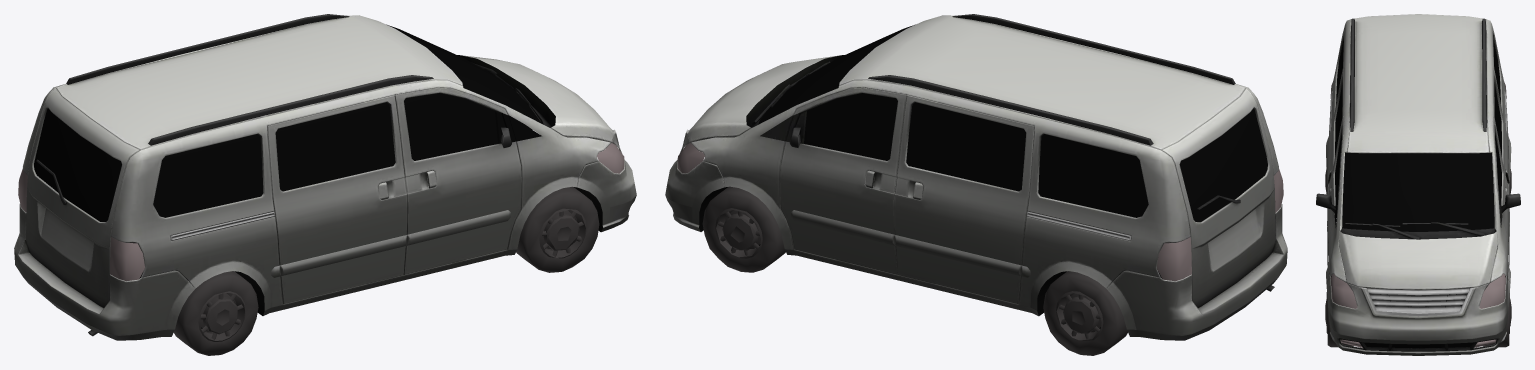
The model's file is pc-minivan-white.lod0.glb.
3 views of the same model, side by side, from view 1: azimuth 30°, elevation 25°; view 2: azimuth 150°, elevation 25°; view 3: azimuth 270°, elevation 25° (orthographic). The views are drawn at different scales.
Visible parts, largest first — view 1: minivan body_Body_0, Wheel_D_Wheel_0; view 2: minivan body_Body_0, Wheel_D_Wheel_0; view 3: minivan body_Body_0, Wheel_D_Wheel_0.
Part boxes in pixels (x1=…): minivan body_Body_0: x1=14, y1=14, x2=636, y2=340; Wheel_D_Wheel_0: x1=18, y1=24, x2=624, y2=355; minivan body_Body_0: x1=665, y1=14, x2=1287, y2=340; Wheel_D_Wheel_0: x1=677, y1=24, x2=1283, y2=355; minivan body_Body_0: x1=1316, y1=14, x2=1520, y2=355; Wheel_D_Wheel_0: x1=1325, y1=39, x2=1511, y2=347.
Bounding box in the file's own units: 4.6 × 1.76 × 1.87.
2 materials, 1 textured.
